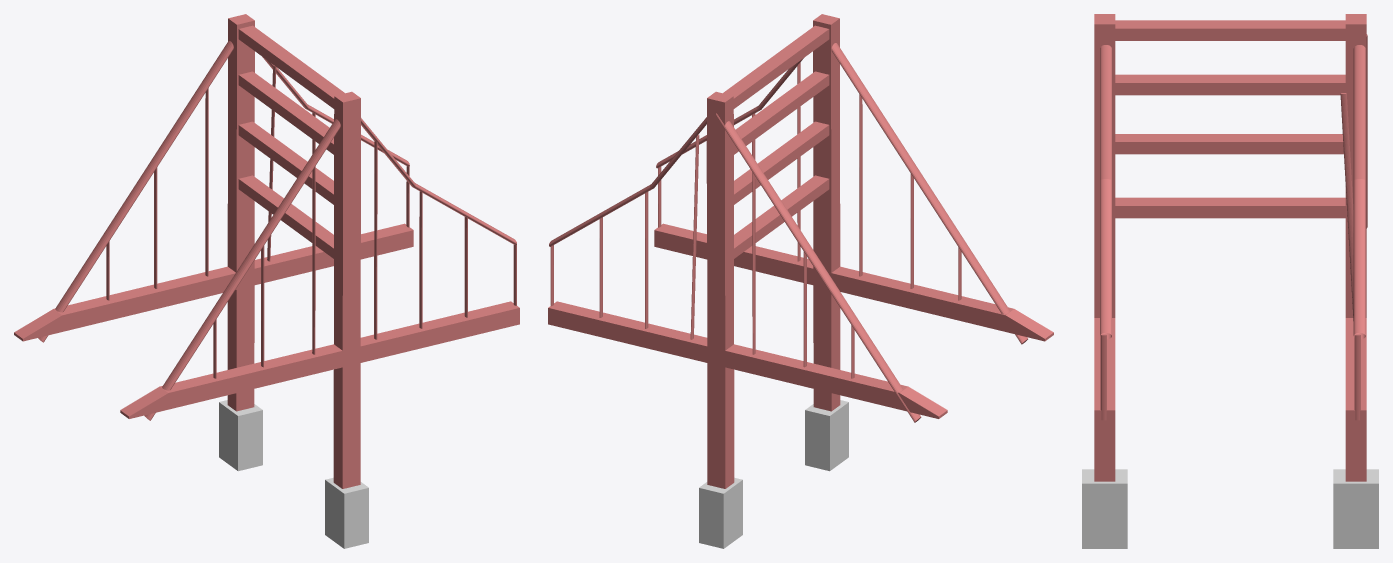
File: road_bridge_1.glb
3 renders of one model, left to right at view 1: azimuth 30°, elevation 25°; view 2: azimuth 150°, elevation 25°; view 3: azimuth 270°, elevation 25°, orthographic. The views are drawn at different scales.
Visible parts, largest first — view 1: Bridge; view 2: Bridge; view 3: Bridge.
Part boxes in pixels (bbox=[...]): Bridge: bbox=[14, 14, 519, 548]; Bridge: bbox=[548, 14, 1053, 548]; Bridge: bbox=[1082, 14, 1378, 548].
Bounding box in the file's own units: 38.68 × 41.74 × 21.46.
